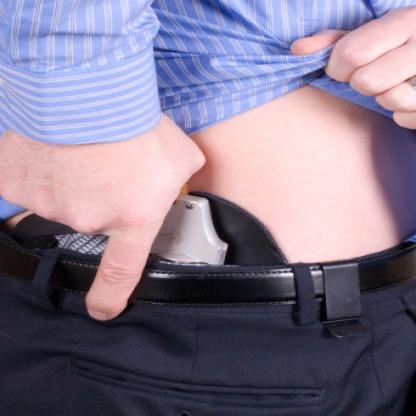gun: (37, 168, 260, 294)
